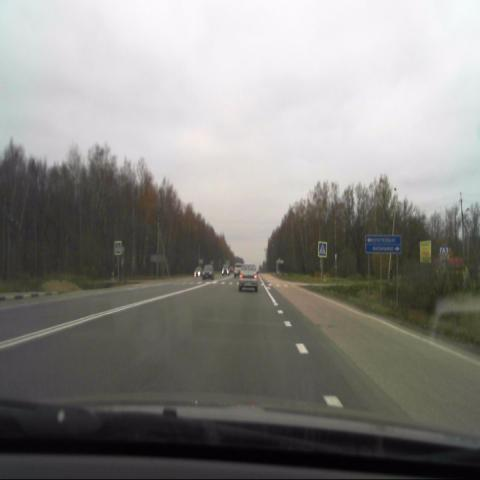5_19_1: (318, 241, 327, 258), (114, 241, 122, 254)
